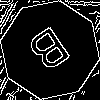B: (25, 25, 79, 82)
